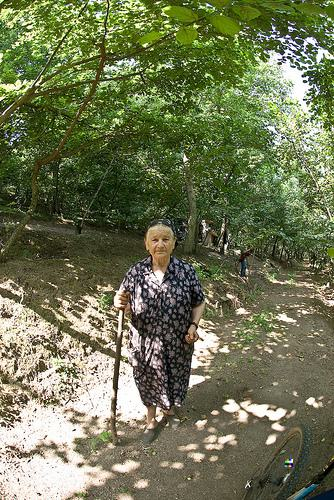car: (245, 427, 334, 500)
person: (114, 218, 208, 445)
